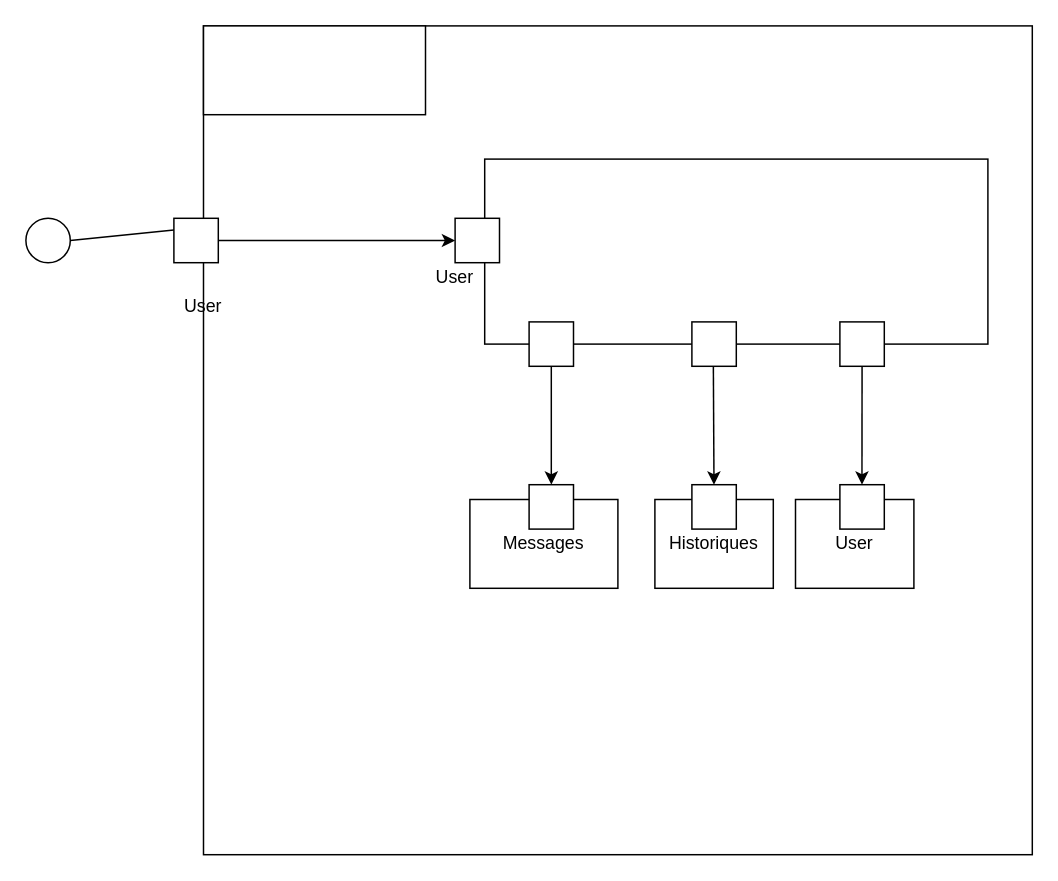
This 1058x881 diagram has some shape labels left out. Here are the shapes that lost their labels. From the top down, the box of each, then its label:
(202, 24, 426, 115): active class ChatSession
(483, 158, 988, 344): ChatSession
